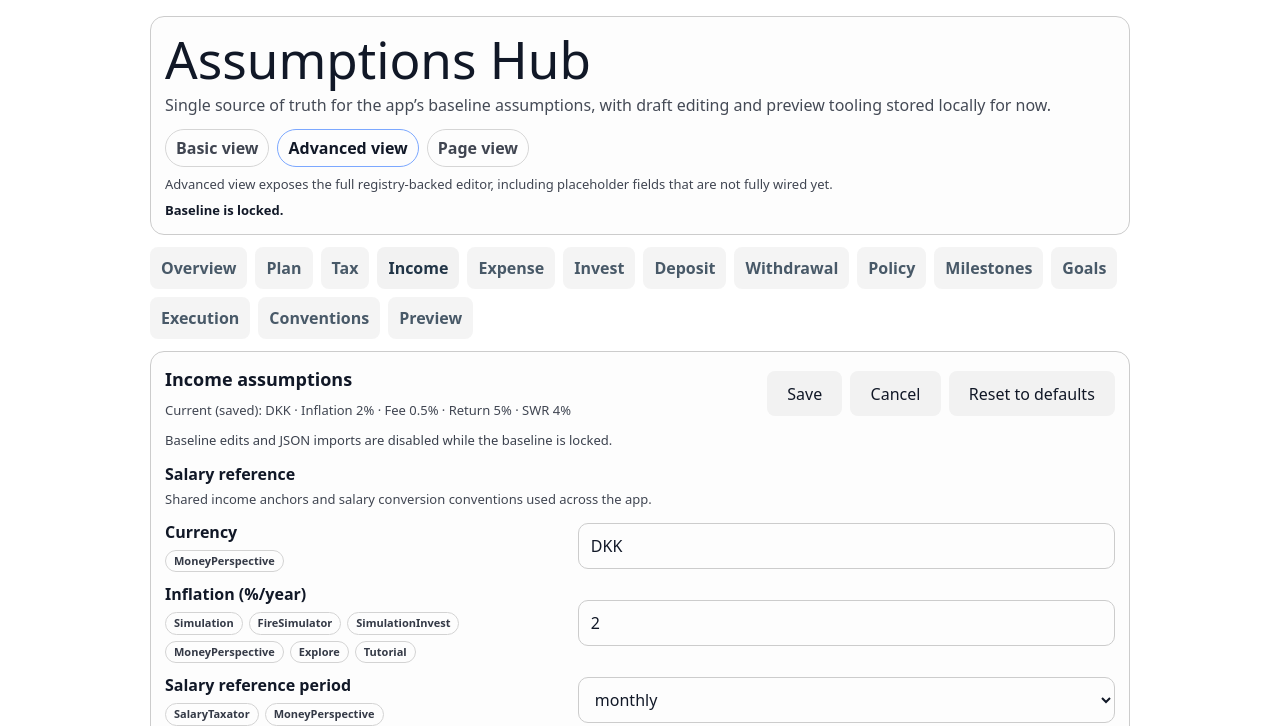
it: AssumptionsHubPage › keeps page-view fields disabled when the baseline is locked
The width and height of the screenshot is (1280, 726).
Step 1. Click the button "Page view" → (478, 148), box top-left (427, 129), bottom-right (529, 167)
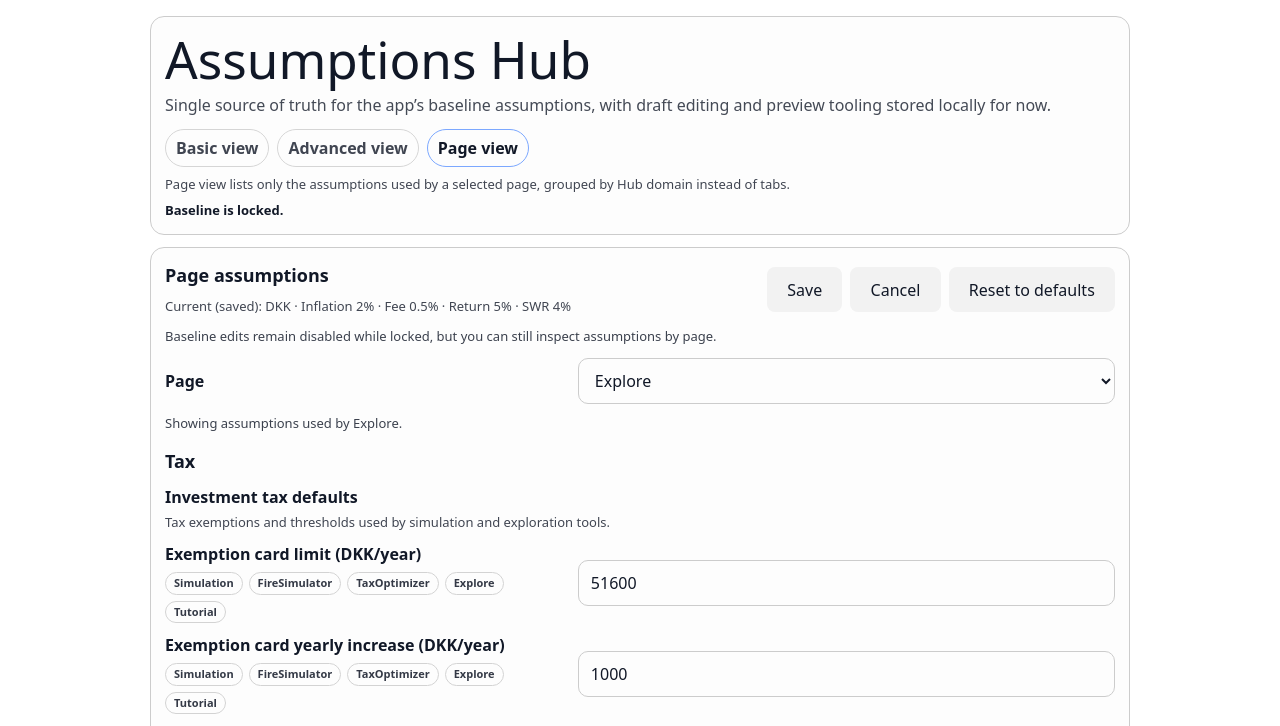
Step 2. Select "Salary Taxator" in the dropdown labelled "Page" → (846, 381), box top-left (578, 358), bottom-right (1115, 404)
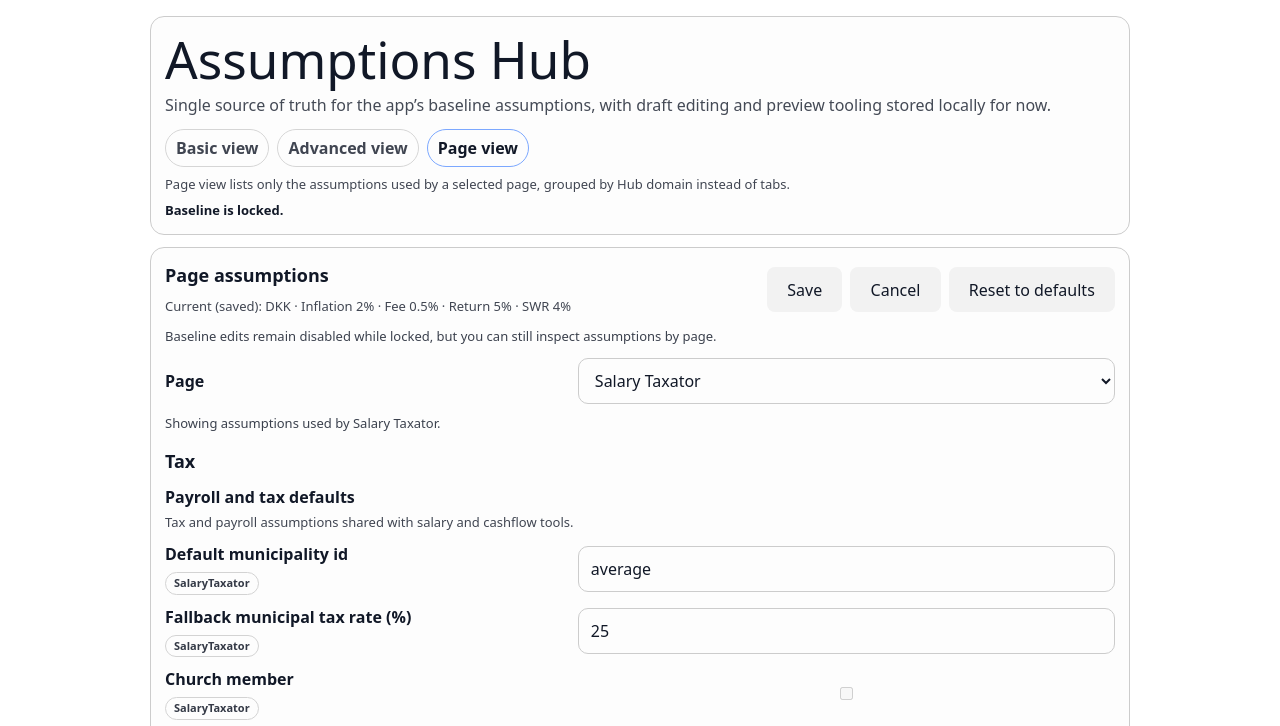
Expected: the dropdown labelled "Page" is enabled, top-left (578, 358), bottom-right (1115, 404)
Expected: the field labelled "Default municipality id" is disabled, top-left (578, 546), bottom-right (1115, 592)
